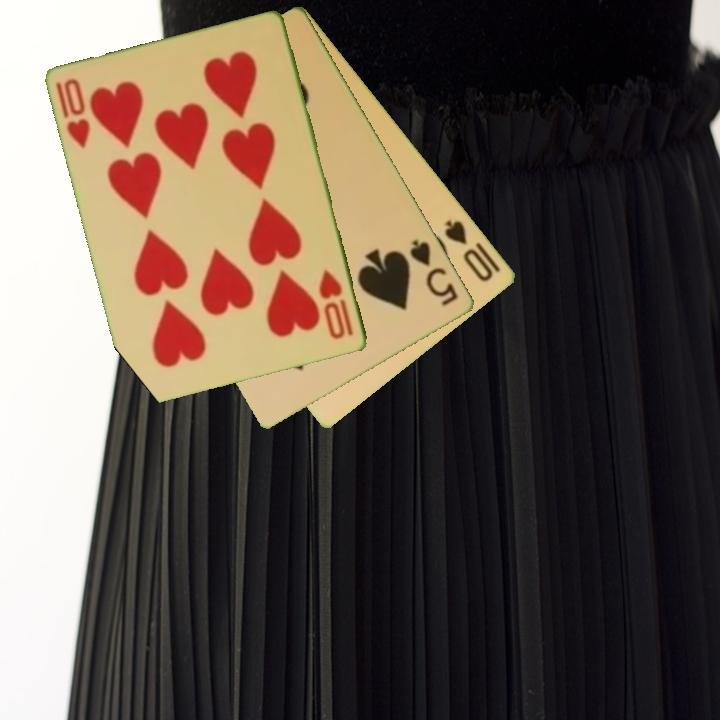10h: (52, 75, 94, 152), (316, 266, 357, 343)
10s: (441, 216, 497, 285)
5s: (406, 236, 462, 309)
